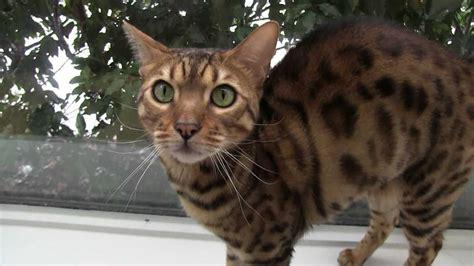cat: (122, 18, 474, 266)
